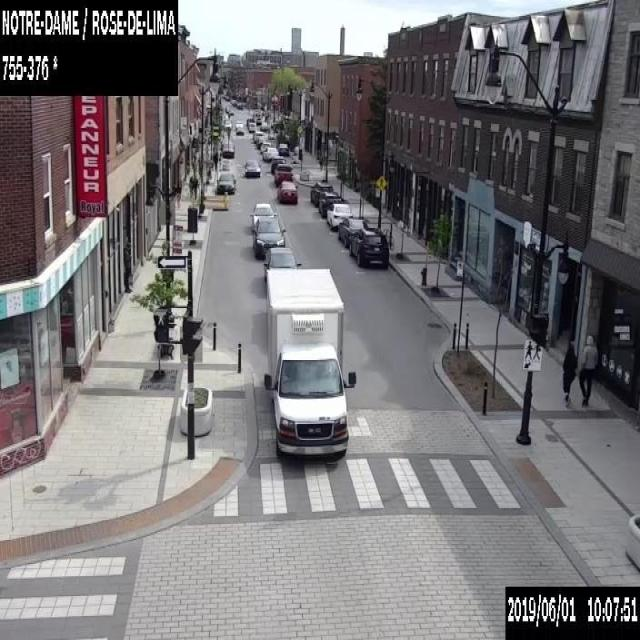bus: (252, 109, 261, 124)
pedestrian: (578, 335, 596, 407), (561, 340, 577, 407), (318, 154, 323, 171)
vehicle: (264, 268, 355, 462), (349, 227, 388, 266), (252, 217, 285, 258), (337, 218, 368, 245), (263, 247, 301, 268), (249, 202, 276, 229), (326, 203, 352, 228), (318, 191, 342, 218), (309, 182, 333, 206), (276, 180, 298, 202), (216, 172, 236, 193), (274, 163, 292, 185), (244, 158, 260, 176), (270, 155, 286, 172), (262, 146, 278, 160), (222, 141, 234, 157), (270, 118, 284, 129), (259, 141, 271, 152), (277, 142, 288, 154), (256, 137, 265, 147), (259, 122, 269, 131), (254, 131, 262, 141), (248, 122, 255, 132), (224, 120, 232, 128), (246, 117, 253, 126), (236, 126, 243, 134), (235, 120, 242, 127), (236, 102, 242, 109), (255, 117, 261, 124), (268, 132, 274, 138), (228, 110, 234, 114)
